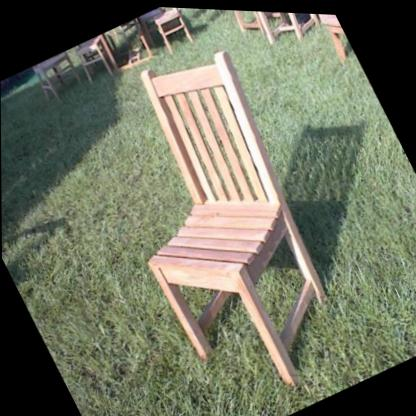Chair: (54, 15, 391, 416), (233, 8, 329, 56)
